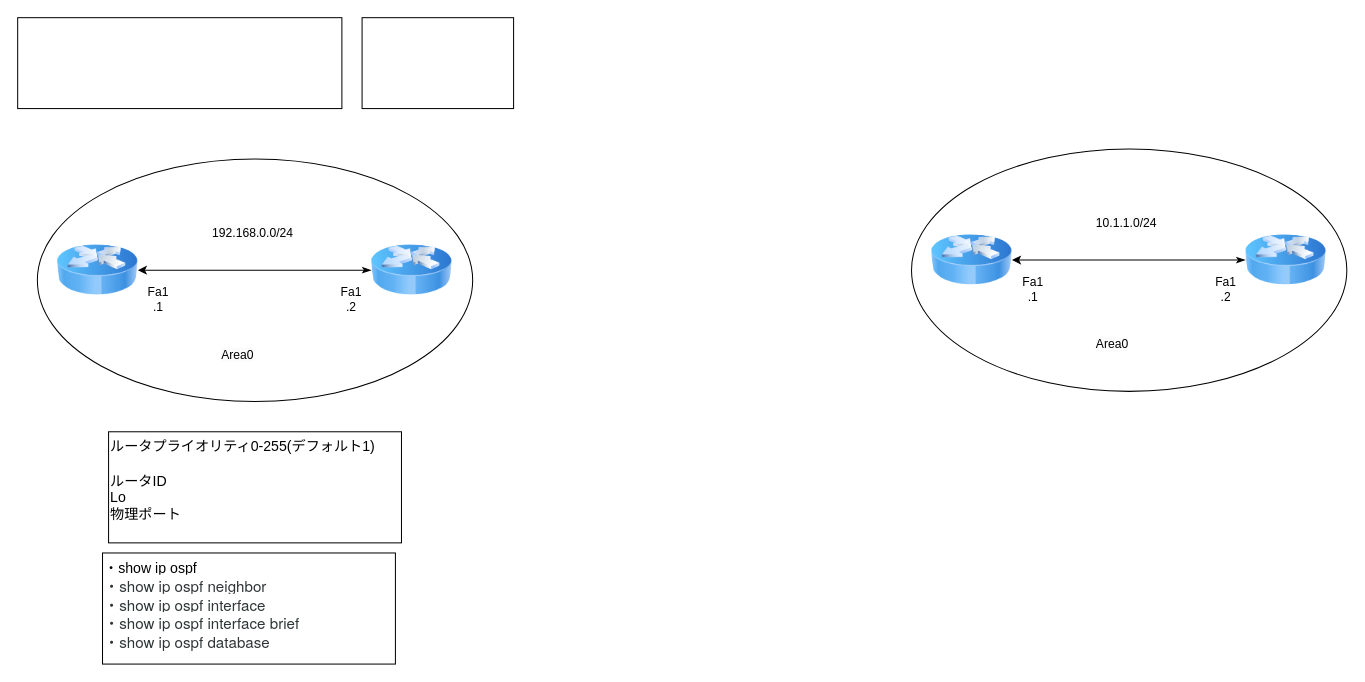
Image size: 1365x682. Some labels were removed from this diagram. Here are the shapes that lost their labels. From the top down, the box of each, then its label:
(17, 17, 342, 109): リンクステート型のルーティングプロトコル 帯域幅から計算する 1G=1 100M=1 10M=10
(361, 17, 514, 109): DR BDRの選出 各セグメントで選出
